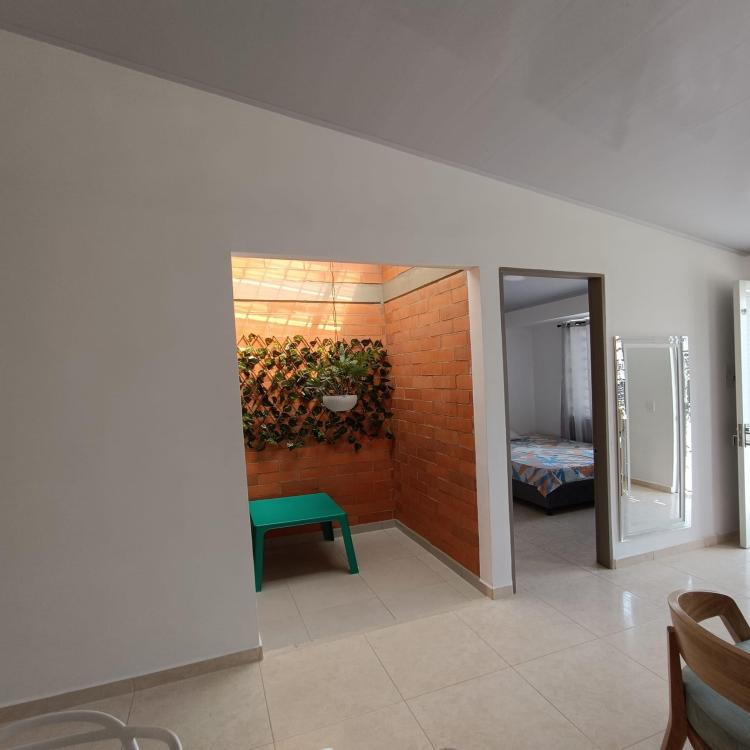OpenDoor: (211, 245, 501, 630), (502, 265, 622, 591)
